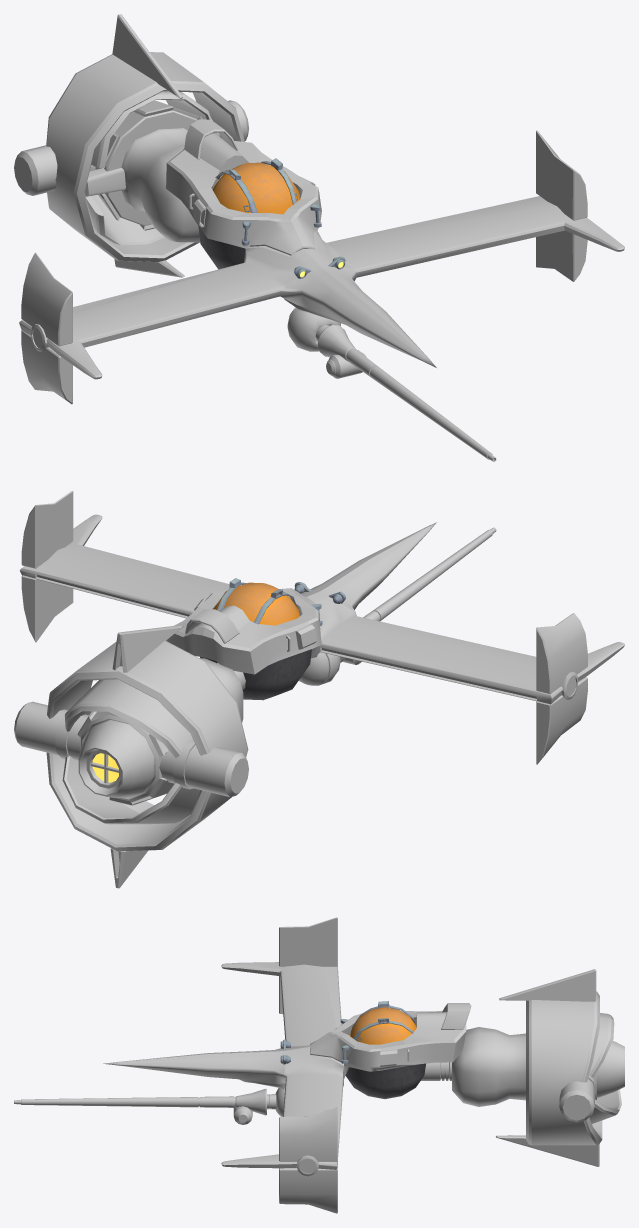
3 renders of one model, top to bottom at view 1: azimuth 30°, elevation 25°; view 2: azimuth 150°, elevation 25°; view 3: azimuth 270°, elevation 25°, orthographic. The views are drawn at different scales.
Visible parts, largest first — view 1: Swordfish_Front_body, Swordfish_Tail, Swordfish_back_03, Swordfish_Cockpit, Swordfish_thrusters_01, pCube1, Sword_Fish_Rifle, pCube4, Swordfish_thrusters_02, pCube3, pCube5, Swordfish_Tail_fin (+5 smaller); view 2: Swordfish_Front_body, Swordfish_Tail, Swordfish_thrusters_02, Swordfish_thrusters_03, Swordfish_Cockpit, Swordfish_Tail1, Swordfish_Tail2, pCube1, pCube4, pCube3, pCube5, Swordfish_thrusters_01 (+6 smaller); view 3: Swordfish_Front_body, Swordfish_Tail, Swordfish_back_03, Swordfish_Cockpit, pCube4, Sword_Fish_Rifle, pCube1, pCube5, Swordfish_Tail_fin, Swordfish_thrusters_02, Swordfish_thrusters_03, Swordfish_Tail_fin1 (+4 smaller).
Part boxes in pixels (x1,y1,x2,y2): Swordfish_Front_body: (19,133,624,379); Swordfish_Tail: (46,52,244,262); Swordfish_back_03: (84,128,200,242); Swordfish_Cockpit: (198,162,300,269); Swordfish_thrusters_01: (95,100,202,230); pCube1: (21,252,72,346); Sword_Fish_Rifle: (317,325,496,461); pCube4: (536,130,587,220); Swordfish_thrusters_02: (14,100,248,195); pCube3: (21,330,72,404); pCube5: (536,230,587,281); Swordfish_Tail_fin: (112,14,182,98); Swordfish_Front_body: (19,514,624,704); Swordfish_Tail: (46,641,248,851); Swordfish_thrusters_02: (14,701,248,797); Swordfish_thrusters_03: (78,720,154,797); Swordfish_Cockpit: (200,582,311,700); Swordfish_Tail1: (64,679,193,757); Swordfish_Tail2: (62,756,200,824); pCube1: (536,613,587,694); pCube4: (21,490,73,568); pCube3: (536,677,587,764); pCube5: (21,575,73,642); Swordfish_thrusters_01: (77,711,173,805); Swordfish_Front_body: (103,962,466,1169); Swordfish_Tail: (526,991,602,1145); Swordfish_back_03: (452,1027,525,1106); Swordfish_Cockpit: (345,1007,425,1098); pCube4: (279,1107,337,1161); Sword_Fish_Rifle: (14,1089,266,1115); pCube1: (279,917,337,966); pCube5: (279,1166,337,1213); Swordfish_Tail_fin: (499,969,596,1001); Swordfish_thrusters_02: (559,1075,596,1122); Swordfish_thrusters_03: (597,1041,624,1097); Swordfish_Tail_fin1: (496,1135,599,1166).
Bounding box in the file's own units: 0.4267 × 0.1936 × 0.5442.
